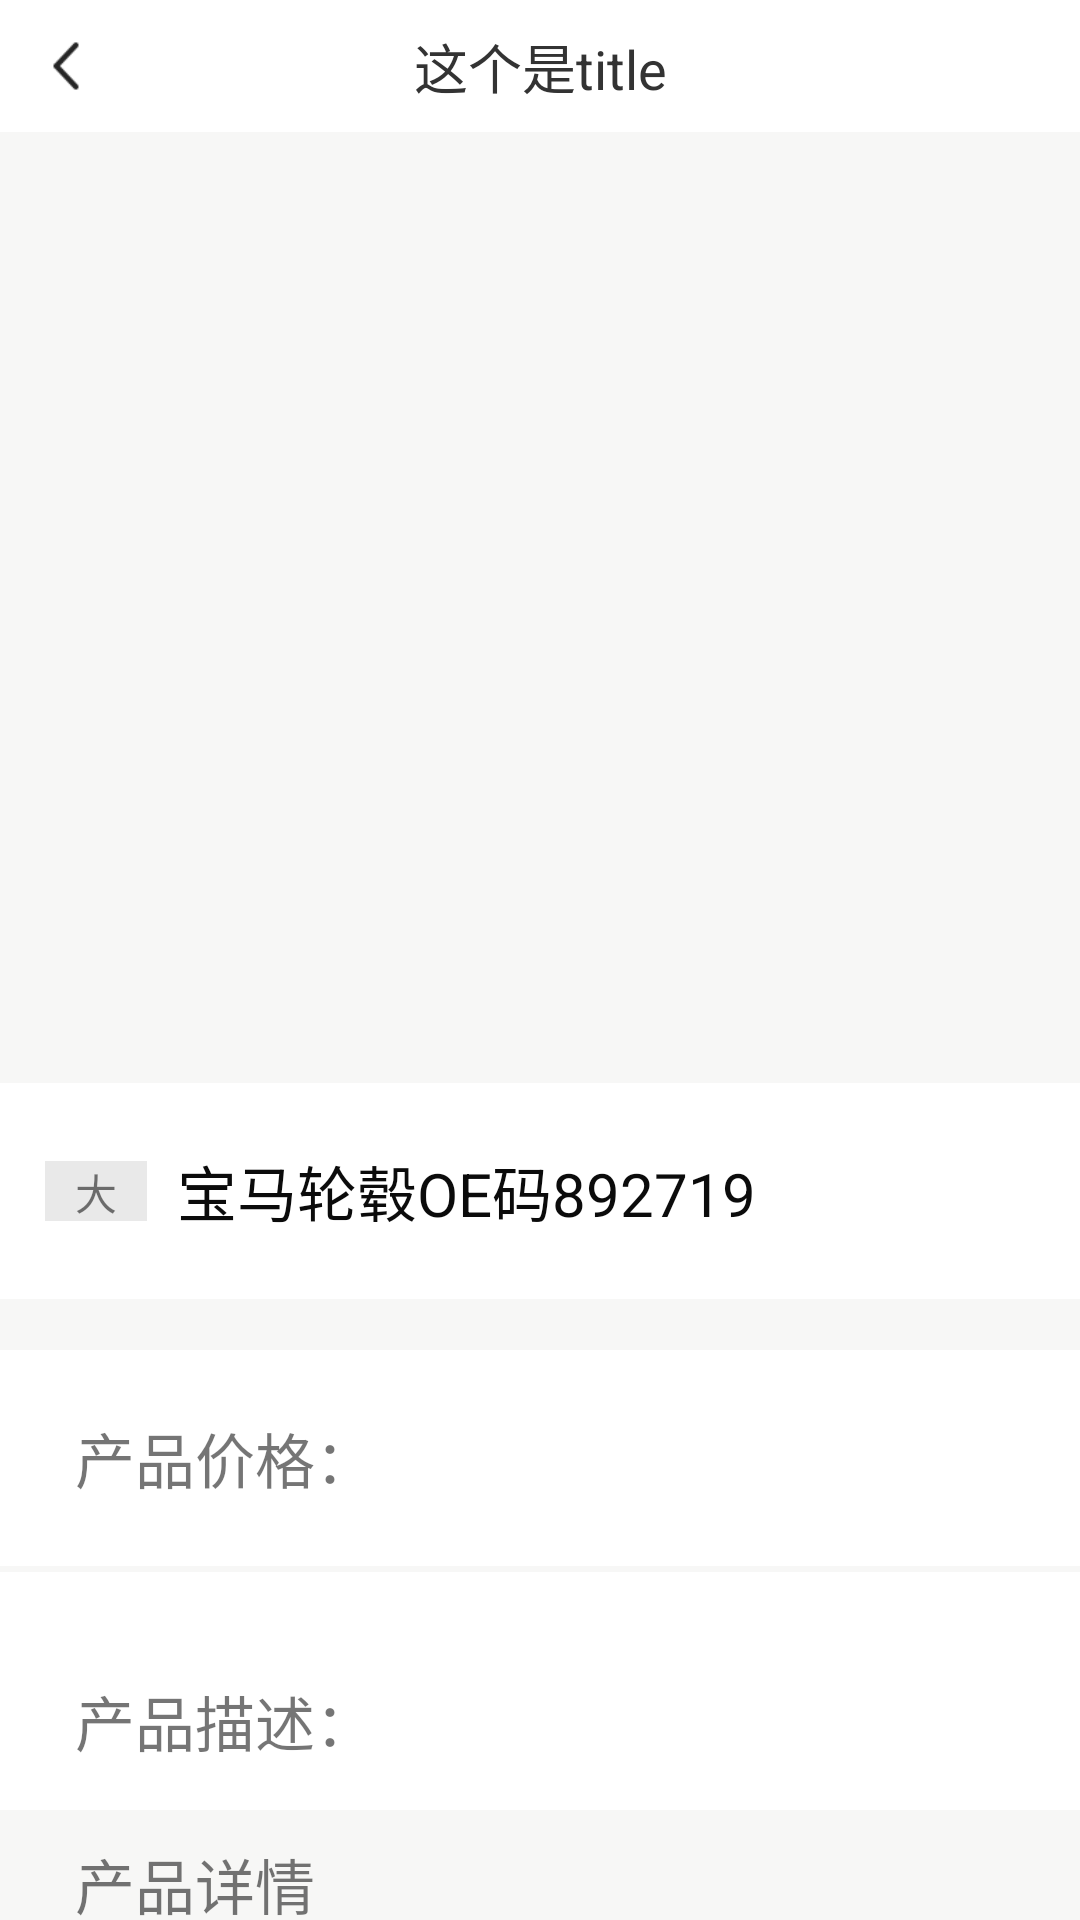

Screen size 1080*1920. Icon name, then its center in pixels as (x,y):
back: (66,66)
